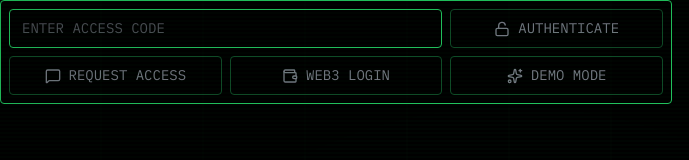
Test case: Entry Screen Web3 Lazy Loading › shows loading state when Web3 button is clicked for first time
Click the button wrapped in act
Click the button "WEB3 LOGIN". click: (336, 76)
box: [230, 56, 442, 95]
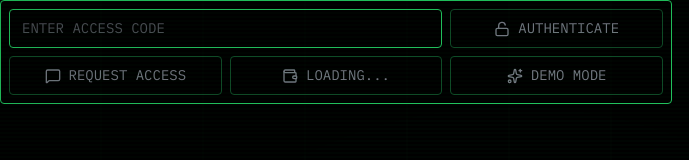
Check: the button "LOADING..." is shown, box [230, 56, 442, 95]
